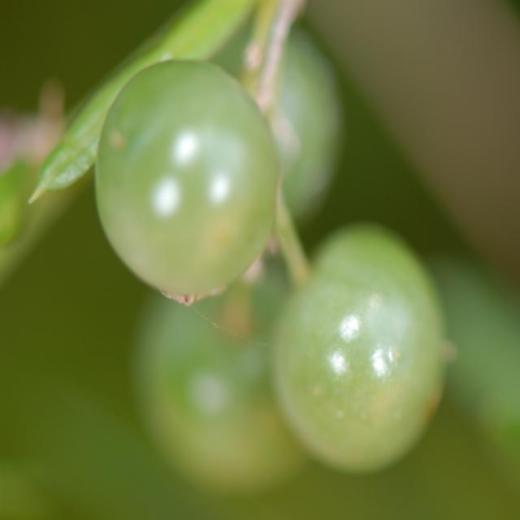Orange: (97, 59, 281, 304), (270, 224, 449, 474), (129, 299, 306, 495), (209, 29, 345, 222)
